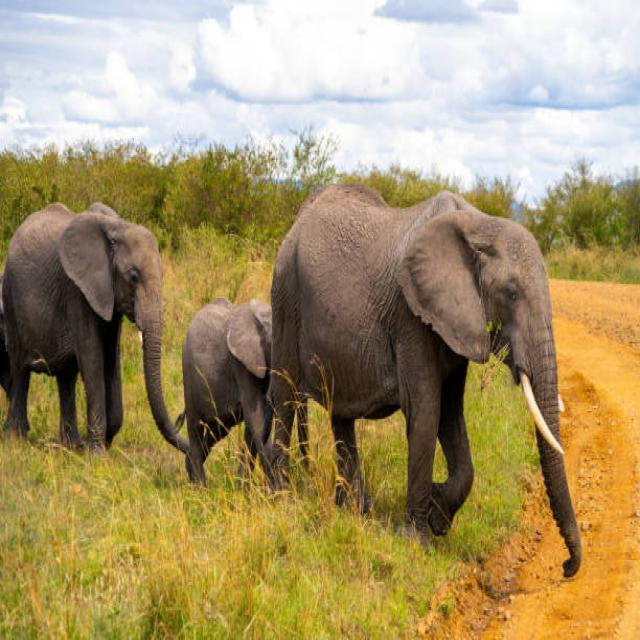Elephant: (258, 146, 602, 596), (0, 184, 184, 513), (187, 279, 279, 535)
